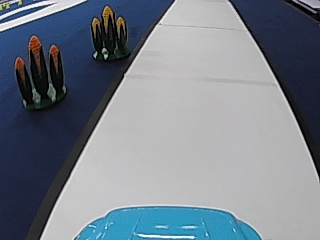corn: (10, 30, 74, 109), (82, 6, 135, 64)
